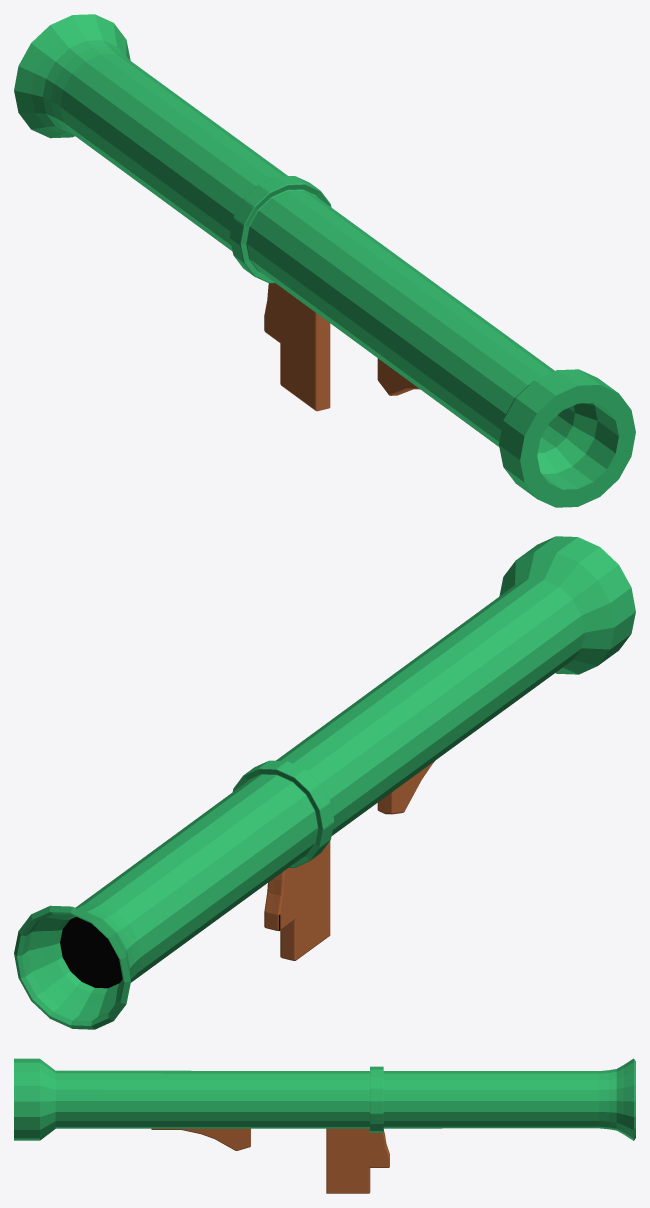
File: bazooka.fbx
The picture shows the model from 3 angles, top to bottom: view 1: azimuth 30°, elevation 25°; view 2: azimuth 150°, elevation 25°; view 3: azimuth 270°, elevation 25°; orthographic projection. The views are drawn at different scales.
Parts seen in each view (by area): view 1: Cylinder; view 2: Cylinder; view 3: Cylinder.
Part boxes in pixels (left/top/right/bottom): Cylinder: left=14, top=14, right=635, bottom=507; Cylinder: left=14, top=536, right=635, bottom=1029; Cylinder: left=14, top=1058, right=635, bottom=1193.
Size of the model in its own units: 58.14 by 437 by 100.
1 material, 1 textured.
